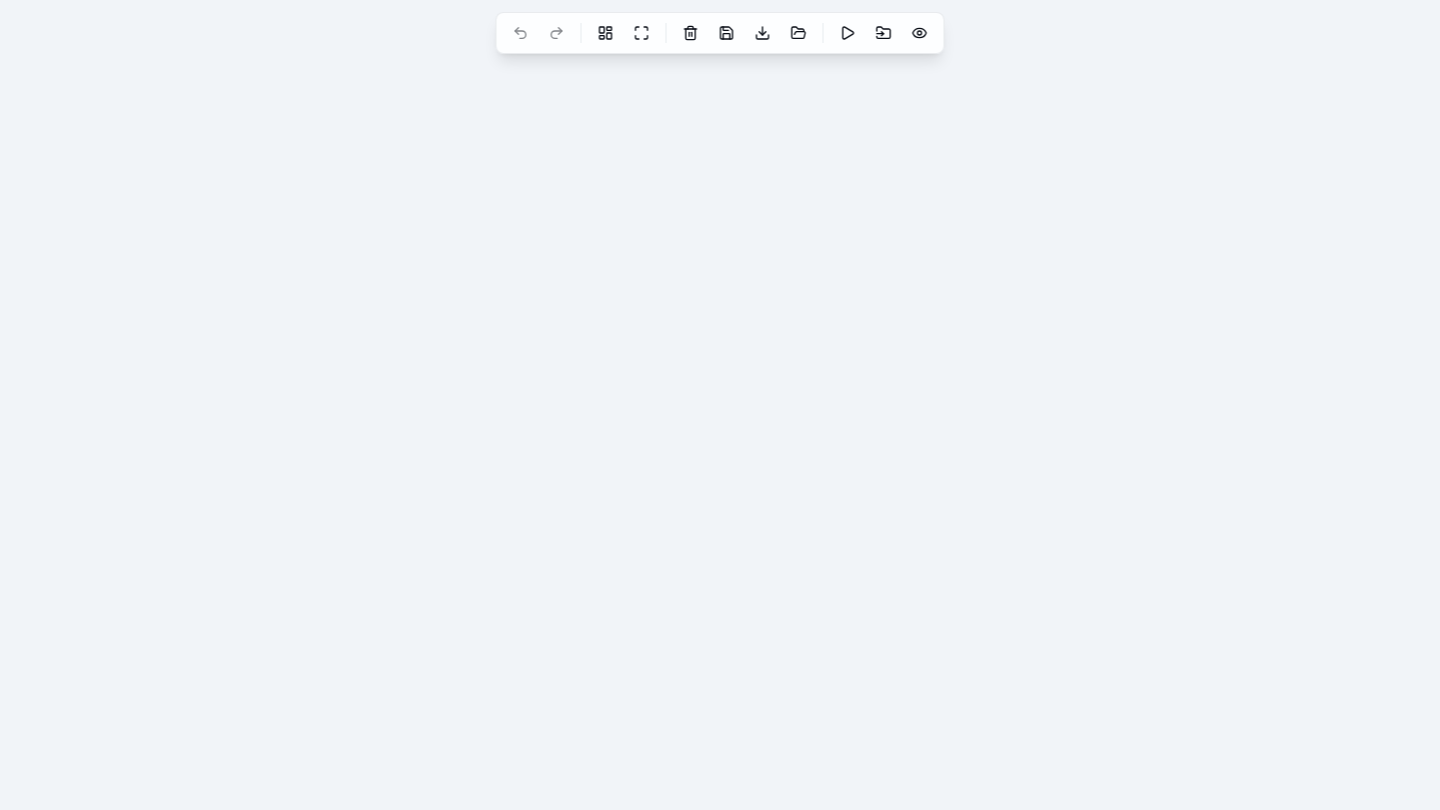
Test: EditorToolbar save › asks before Save as replaces an existing workflow
The image size is (1440, 810).
Click the button named "Save".
click(726, 33)  # box [710, 17, 742, 49]
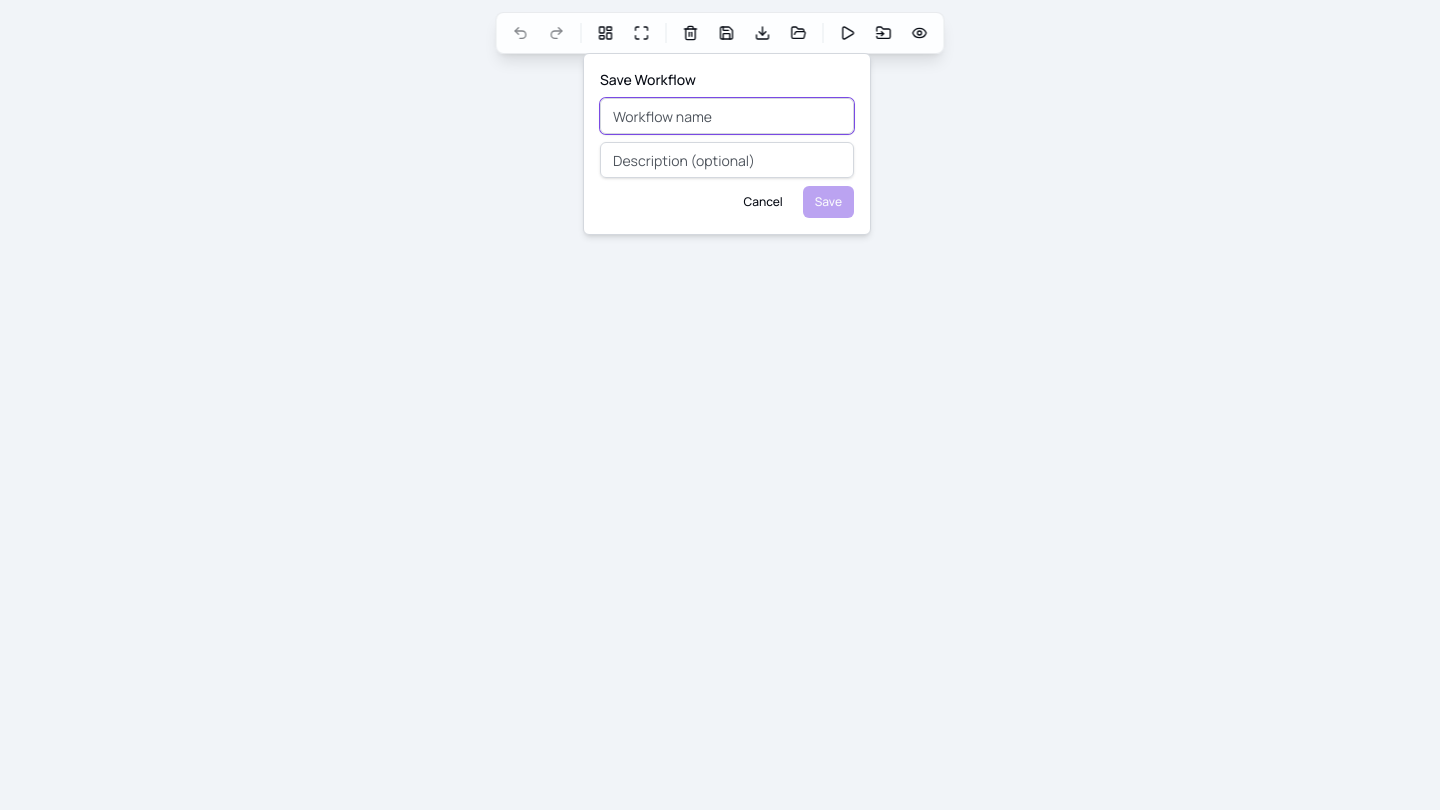
Type "Dup" into the field with placeholder "Workflow name".
click(727, 116); type("Dup")  # box [600, 98, 854, 134]
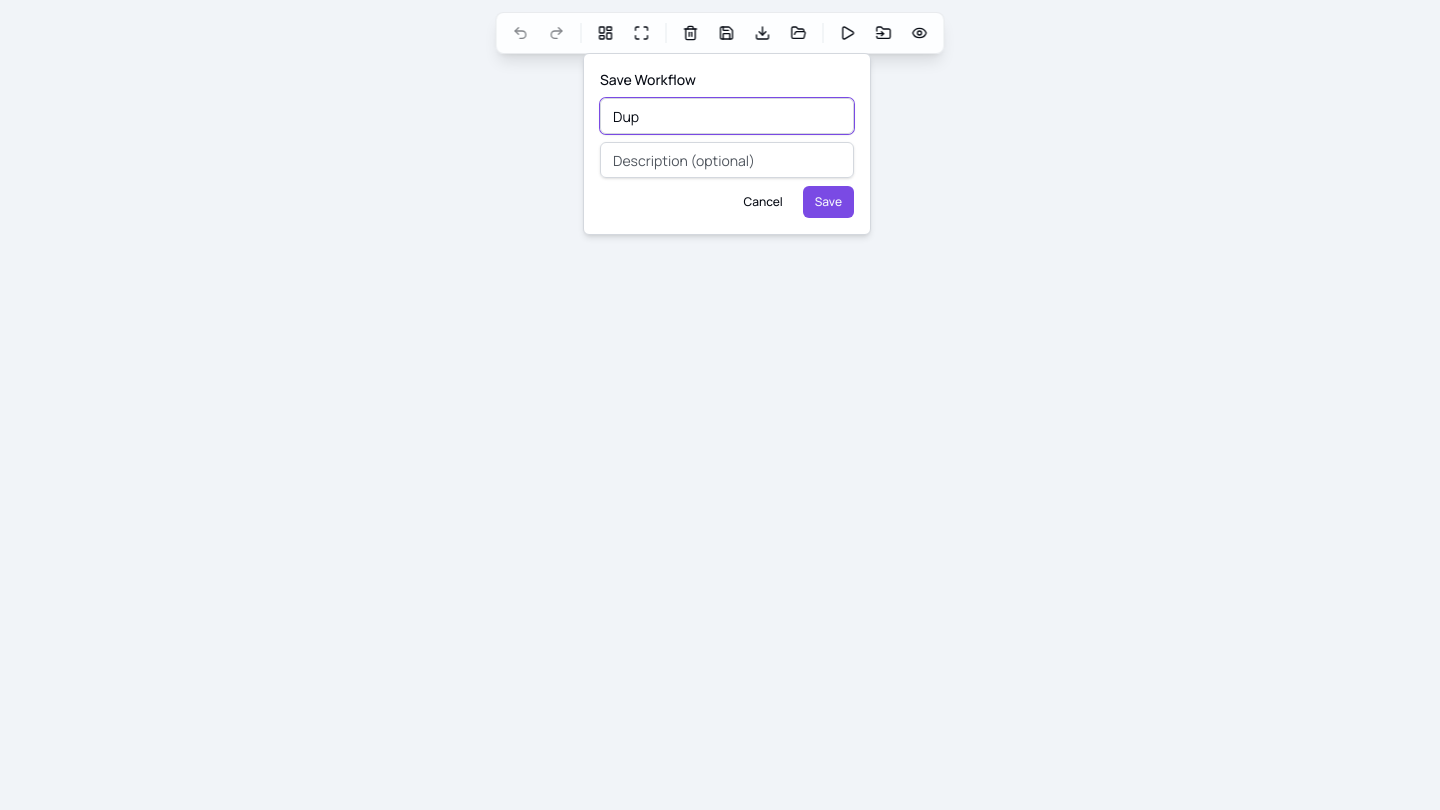
Click the button "Save".
click(828, 202)  # box [803, 186, 854, 218]
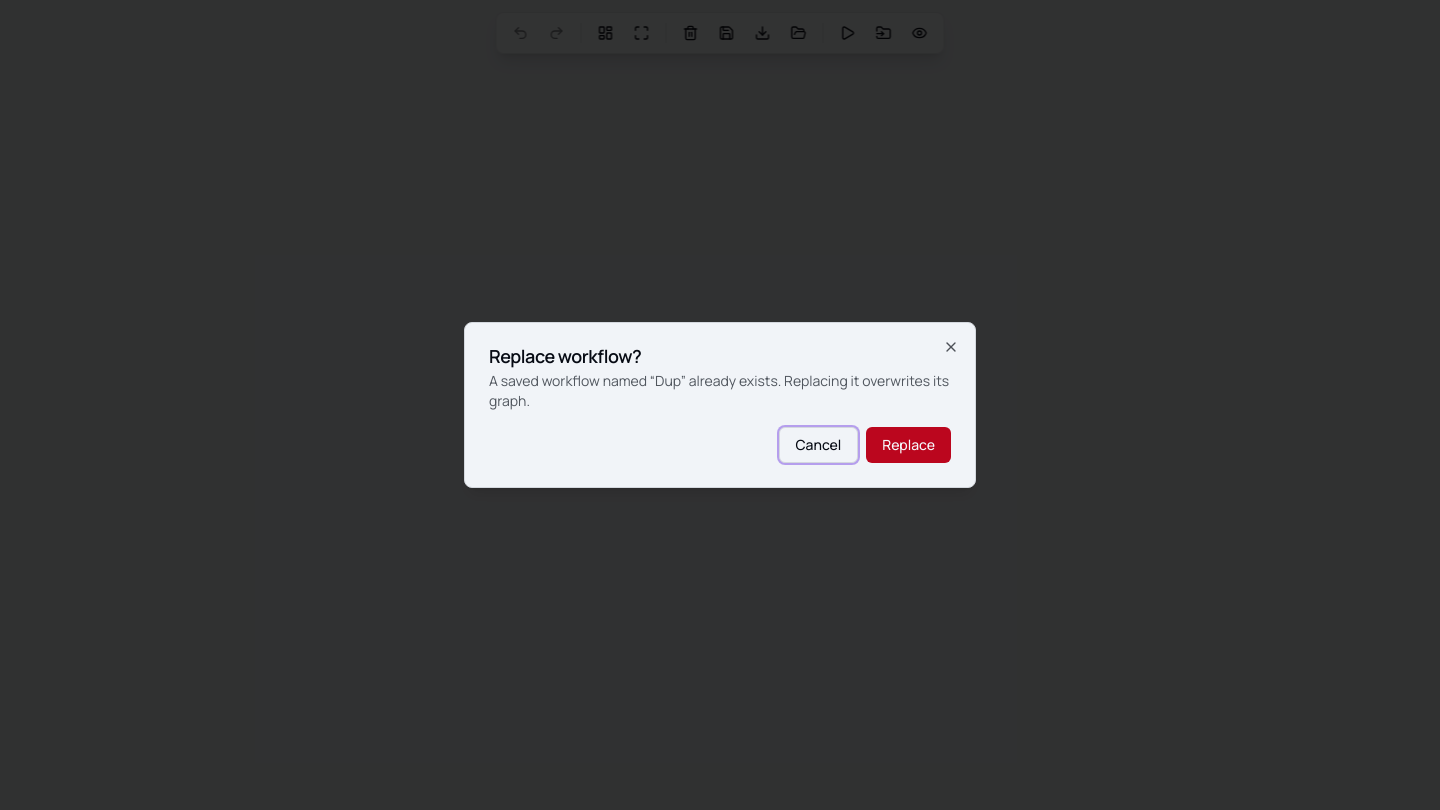
Click the button "Replace".
click(909, 445)  # box [866, 427, 951, 463]
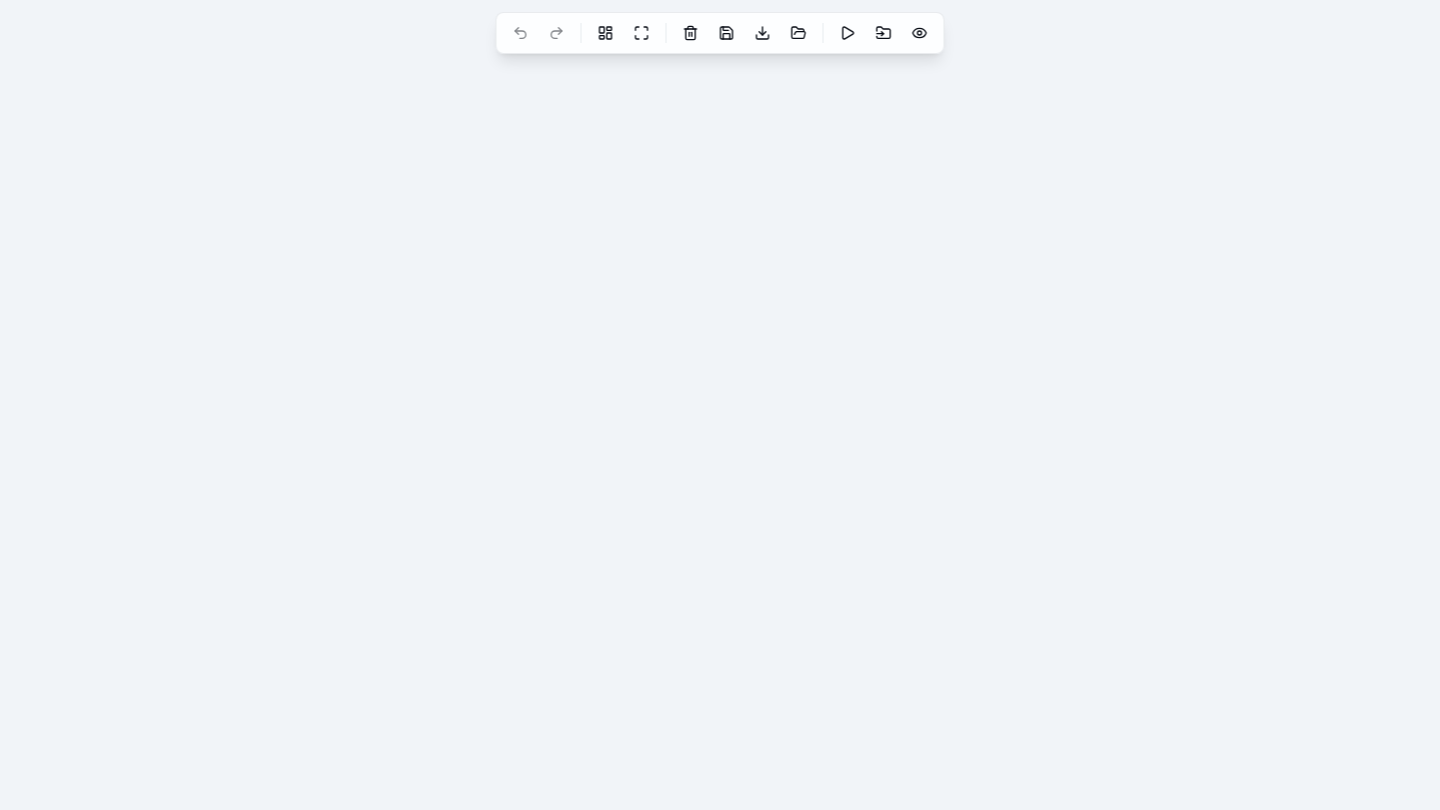
Result: the heading "Replace workflow?" is gone
